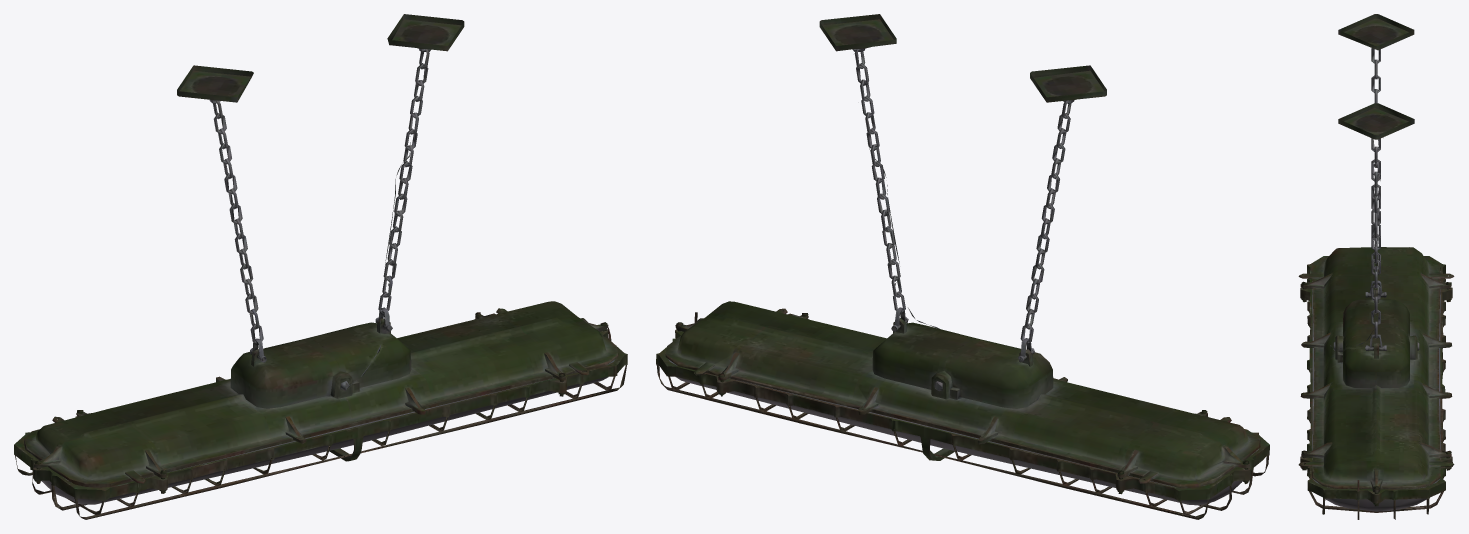
The model's file is caged_hanging_light.glb.
The picture shows the model from 3 angles, left to right: view 1: azimuth 30°, elevation 25°; view 2: azimuth 150°, elevation 25°; view 3: azimuth 270°, elevation 25°; orthographic projection. The views are drawn at different scales.
Parts seen in each view (by area): view 1: caged_hanging_light; view 2: caged_hanging_light; view 3: caged_hanging_light.
Boxes of the visible parts, x1,y1,x2,y2 form: caged_hanging_light: (14,14,627,519); caged_hanging_light: (656,14,1269,519); caged_hanging_light: (1298,14,1454,519).
Size of the model in its own units: 1.16 by 0.7501 by 0.3149.
Materials: 1 (1 with a texture image).
